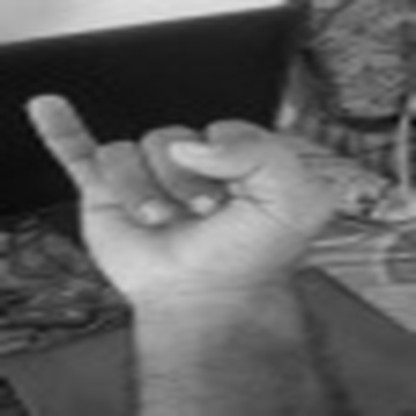i: (12, 81, 375, 305)
